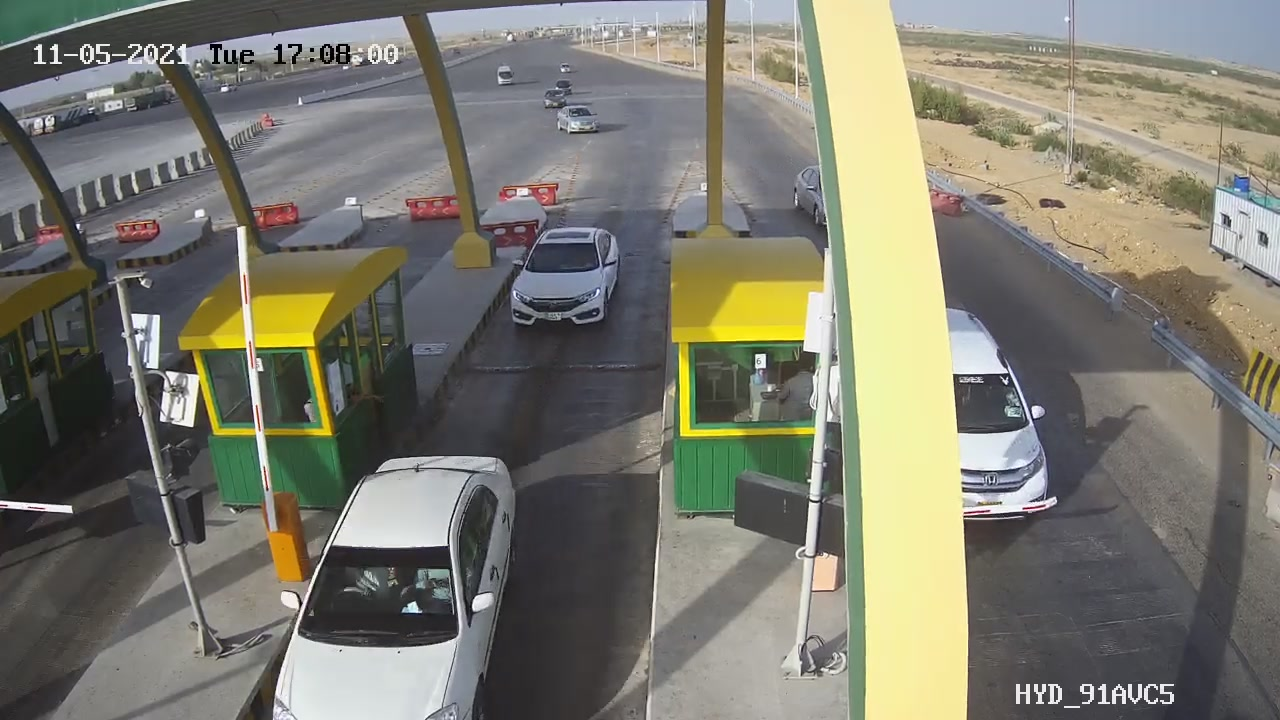F1: (491, 216, 650, 353)
